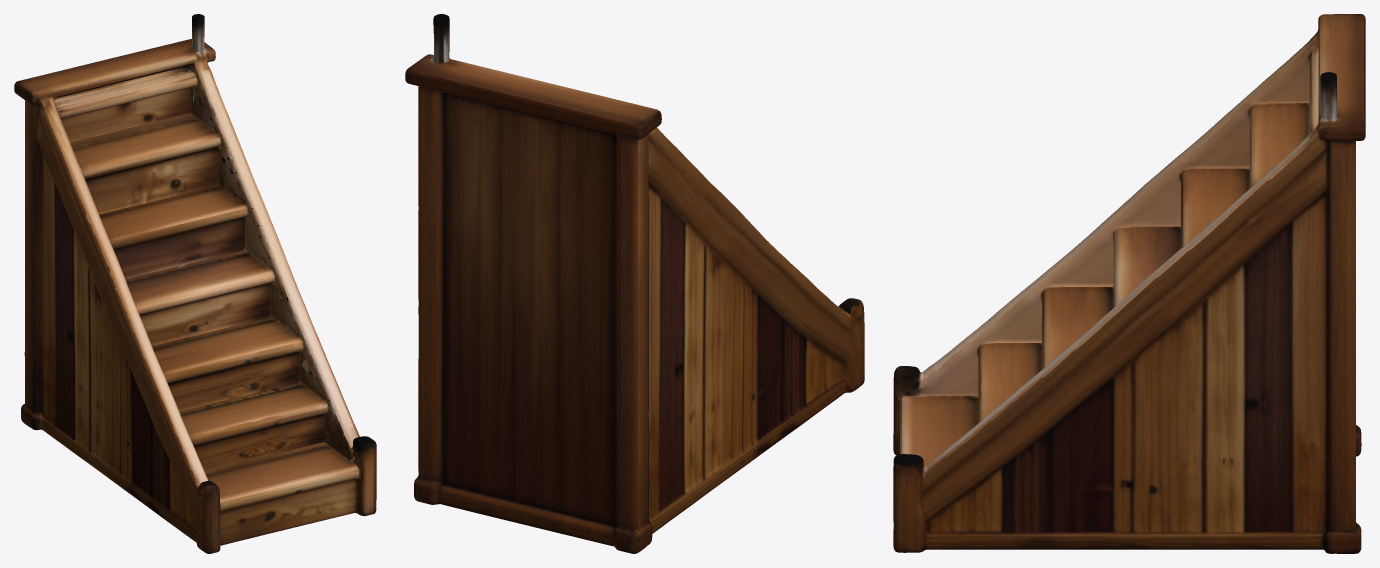
3 views of the same model, side by side, from view 1: azimuth 30°, elevation 25°; view 2: azimuth 150°, elevation 25°; view 3: azimuth 270°, elevation 25° (orthographic). The views are drawn at different scales.
Visible parts, largest first — view 1: tmpmy4ao_zx.ply; view 2: tmpmy4ao_zx.ply; view 3: tmpmy4ao_zx.ply.
Part boxes in pixels (x1,y1,x2,y2): tmpmy4ao_zx.ply: (14, 14, 376, 553); tmpmy4ao_zx.ply: (405, 14, 864, 553); tmpmy4ao_zx.ply: (893, 14, 1365, 553).
Size of the model in its own units: 1.03 by 1.99 by 1.79.
Materials: 1 (1 with a texture image).
